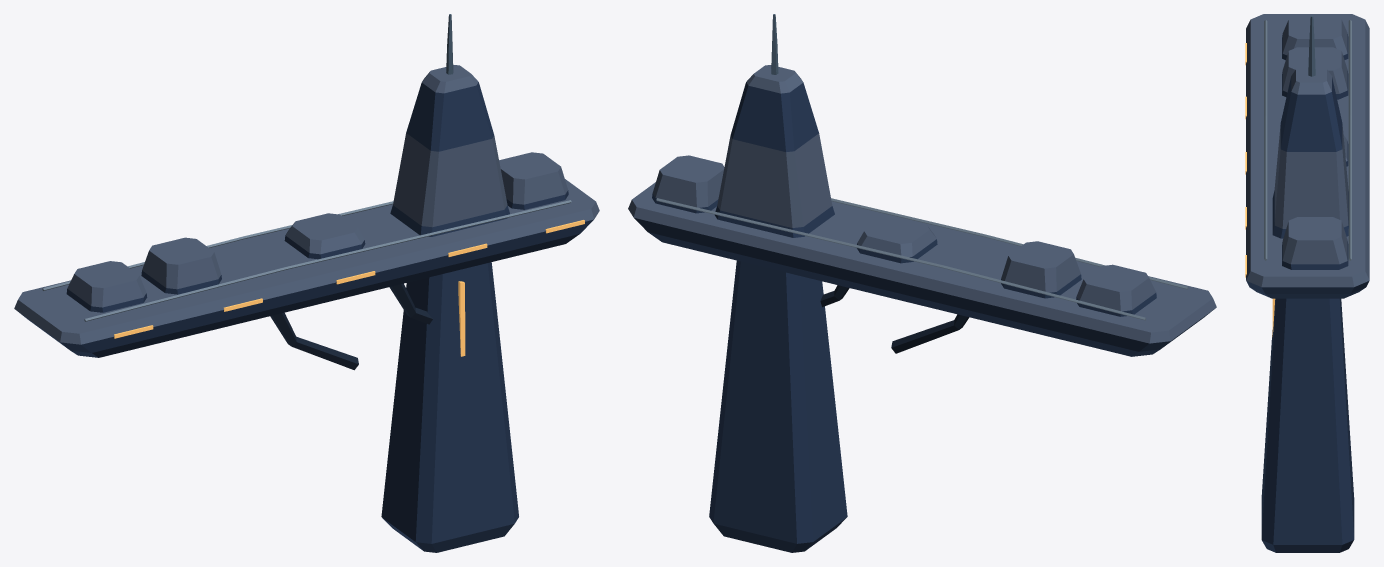
The model's file is shipyard-platform.glb.
3 views of the same model, side by side, from view 1: azimuth 30°, elevation 25°; view 2: azimuth 150°, elevation 25°; view 3: azimuth 270°, elevation 25° (orthographic).
Parts seen in each view (by area): view 1: shipyard-platform; view 2: shipyard-platform; view 3: shipyard-platform.
Part boxes in pixels (left/top/right/bottom): shipyard-platform: left=14, top=14, right=599, bottom=552; shipyard-platform: left=628, top=14, right=1216, bottom=552; shipyard-platform: left=1245, top=14, right=1369, bottom=552.
Bounding box in the file's own units: 15.44 × 14.03 × 3.06.
